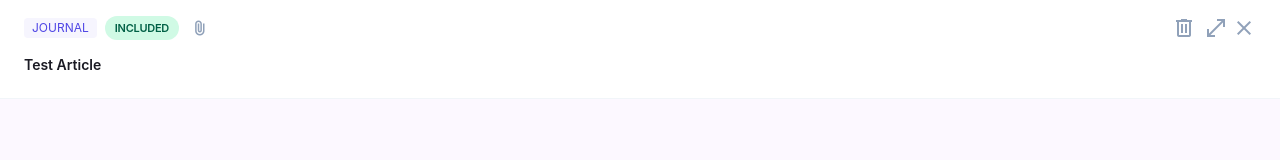
Test: DetailHeader – inline title edit › enters edit mode on double-click
The width and height of the screenshot is (1280, 160).
Double-click the heading "Test Article" at (63, 64), box [24,56,101,73]
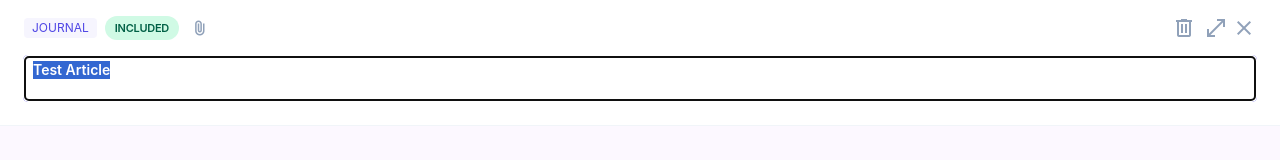
Expected: the text box is shown, [24,56,1256,101]
